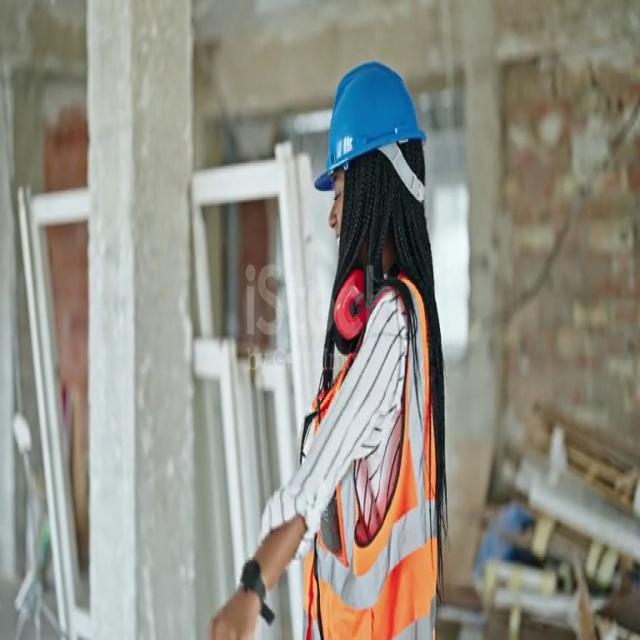capacete: (303, 56, 435, 208)
